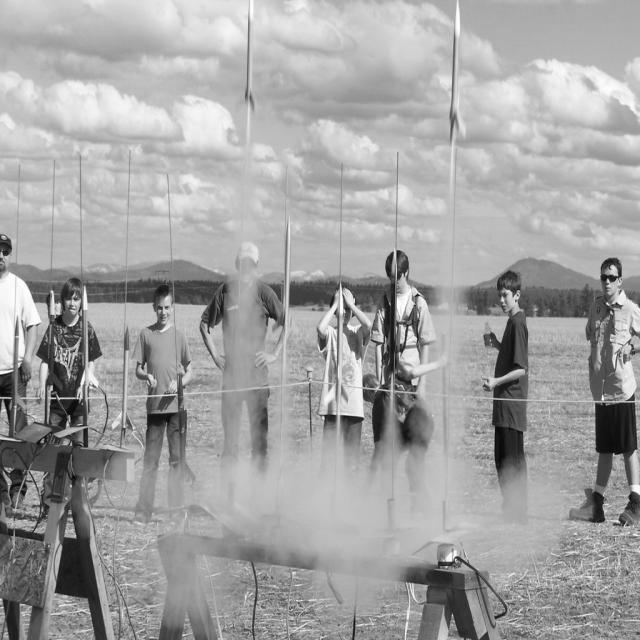missile: (442, 0, 467, 133), (237, 0, 262, 108), (173, 373, 197, 484), (113, 322, 134, 430), (78, 288, 100, 383), (9, 315, 26, 412), (47, 290, 61, 389)
